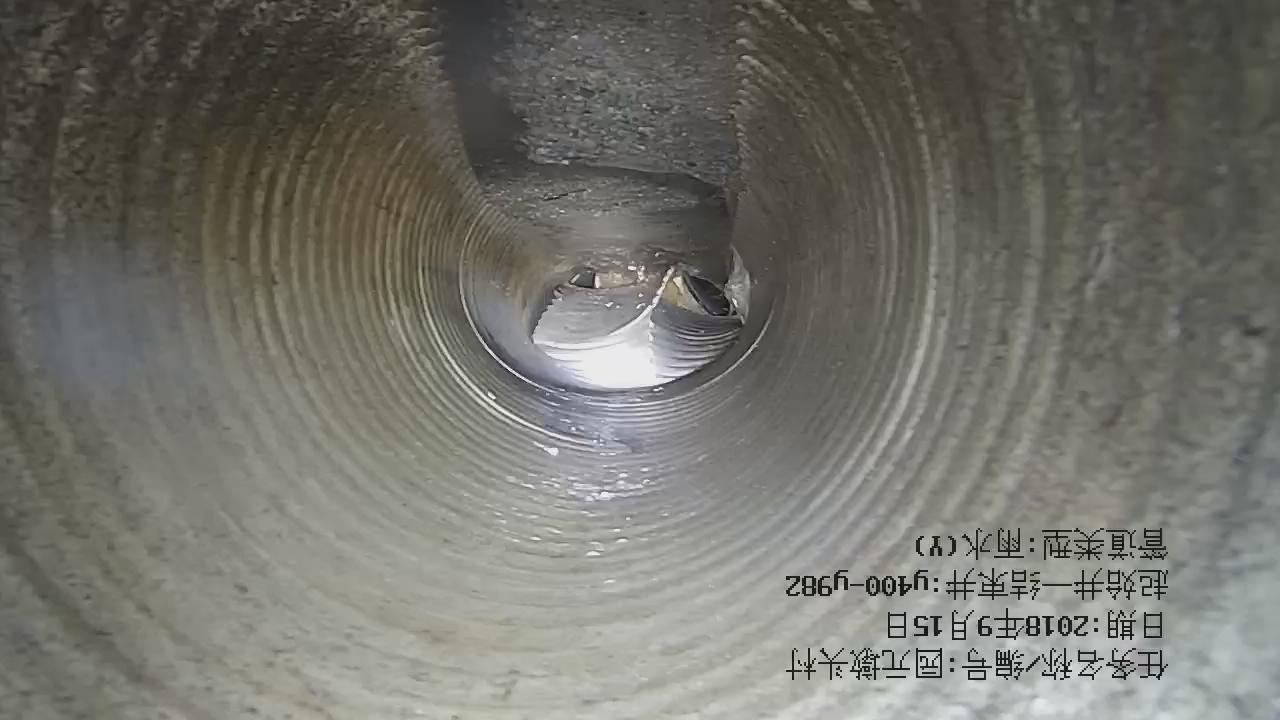BX: (482, 229, 760, 394)
PL: (530, 254, 741, 353)
